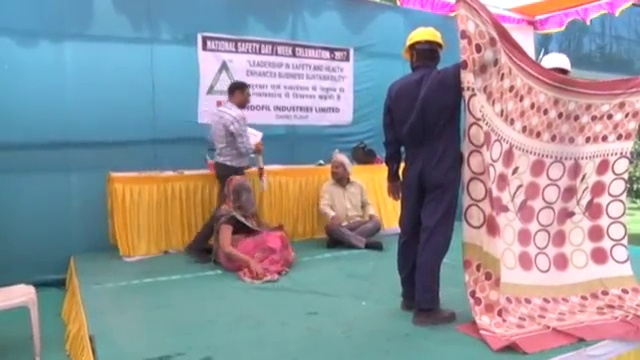helmet: (403, 26, 444, 57), (538, 50, 573, 73)
helmet_off: (225, 174, 249, 203), (328, 152, 350, 183), (228, 78, 250, 108)
helmet_on: (401, 24, 444, 73)
person: (384, 25, 462, 327), (187, 73, 255, 265), (214, 174, 297, 288), (316, 152, 384, 253)
